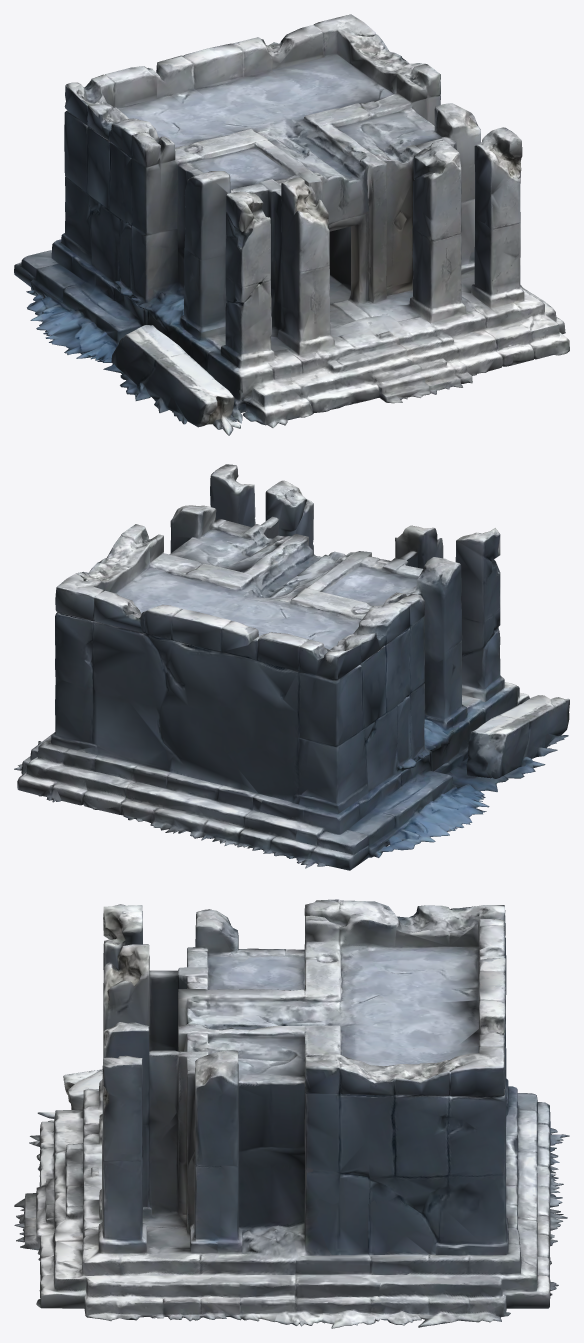
Rendered from ruina_antigua.glb.
3 views of the same model, one above another, from view 1: azimuth 30°, elevation 25°; view 2: azimuth 150°, elevation 25°; view 3: azimuth 270°, elevation 25° (orthographic). The views are drawn at different scales.
Visible parts, largest first — view 1: tripo_node_ed19d4fa-e7ac-4faf-a872-6c468843d02a; view 2: tripo_node_ed19d4fa-e7ac-4faf-a872-6c468843d02a; view 3: tripo_node_ed19d4fa-e7ac-4faf-a872-6c468843d02a.
Part boxes in pixels (bbox=[...]): tripo_node_ed19d4fa-e7ac-4faf-a872-6c468843d02a: bbox=[14, 14, 569, 435]; tripo_node_ed19d4fa-e7ac-4faf-a872-6c468843d02a: bbox=[14, 464, 569, 870]; tripo_node_ed19d4fa-e7ac-4faf-a872-6c468843d02a: bbox=[14, 899, 569, 1328].
Bounding box in the file's own units: 0.9995 × 0.4558 × 0.984.
1 material, 1 textured.
